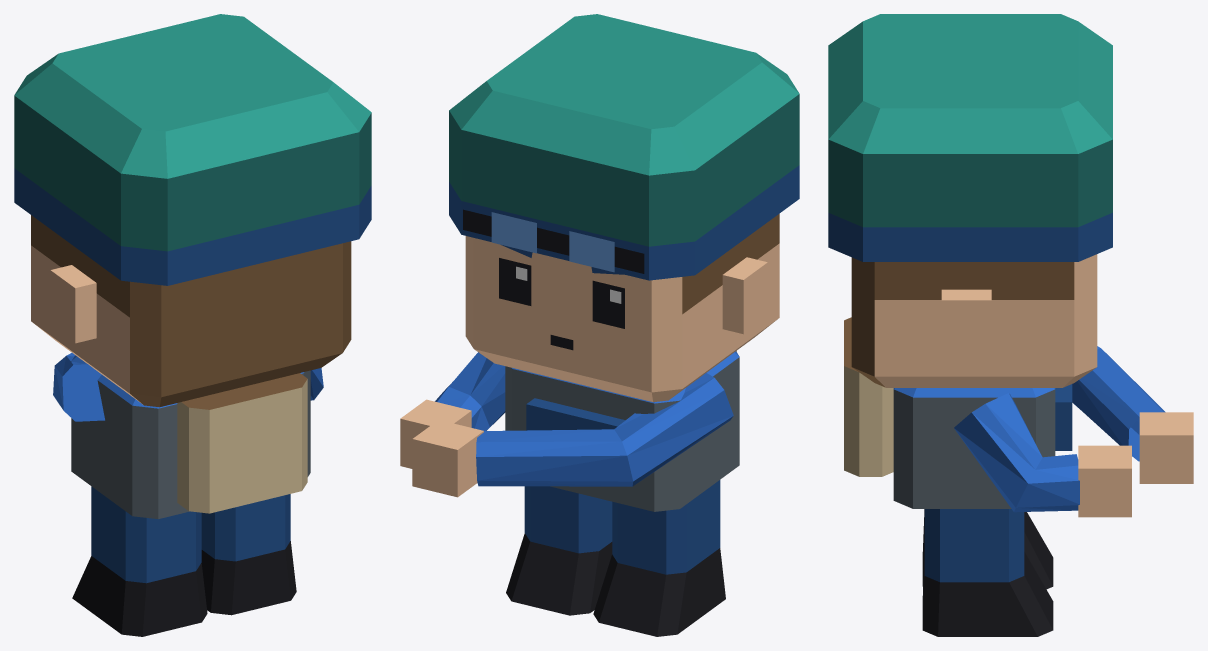
Rendered from chr_soldier_b.glb.
3 renders of one model, left to right at view 1: azimuth 30°, elevation 25°; view 2: azimuth 150°, elevation 25°; view 3: azimuth 270°, elevation 25°, orthographic. The views are drawn at different scales.
Visible parts, largest first — view 1: chr_soldier_b; view 2: chr_soldier_b; view 3: chr_soldier_b.
Boxes of the visible parts, x1,y1,x2,y2 form: chr_soldier_b: [14, 14, 371, 636]; chr_soldier_b: [400, 14, 799, 636]; chr_soldier_b: [828, 14, 1193, 636].
Bounding box in the file's own units: 0.9329 × 1.64 × 1.02.
1 material, 1 textured.
